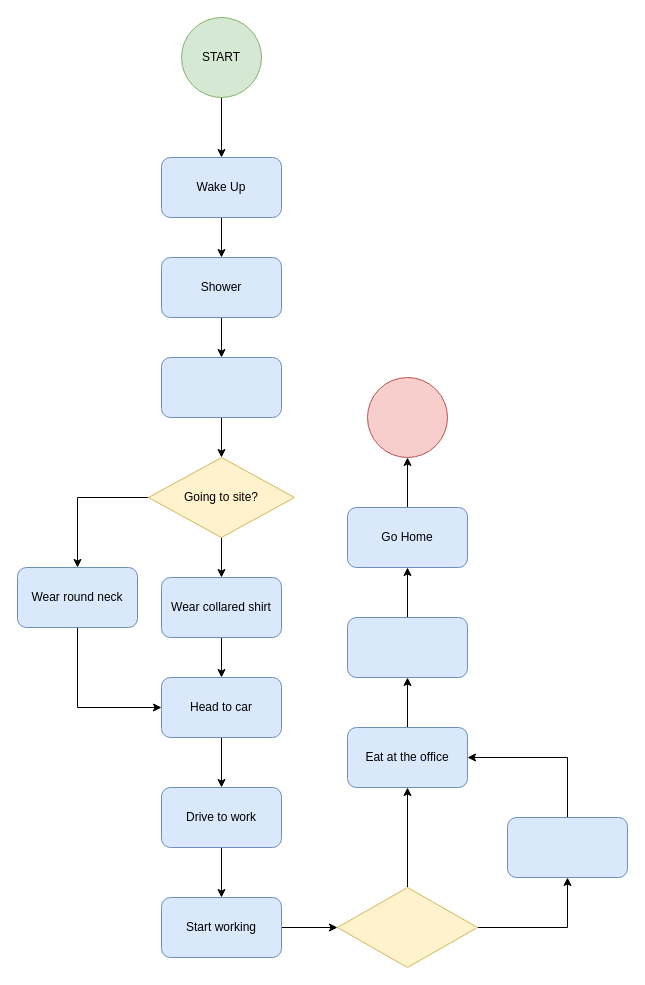
Image size: 645x985. Some labels were removed from this diagram. The shapes that lost their labels are listed below. From the top down, each one's centre as x and y in pixels, then its label:
[221,387]: Getting Ready
[407,417]: END
[407,647]: Continue working
[567,847]: Tapau
[407,927]: Lunch- Bring food for home?
